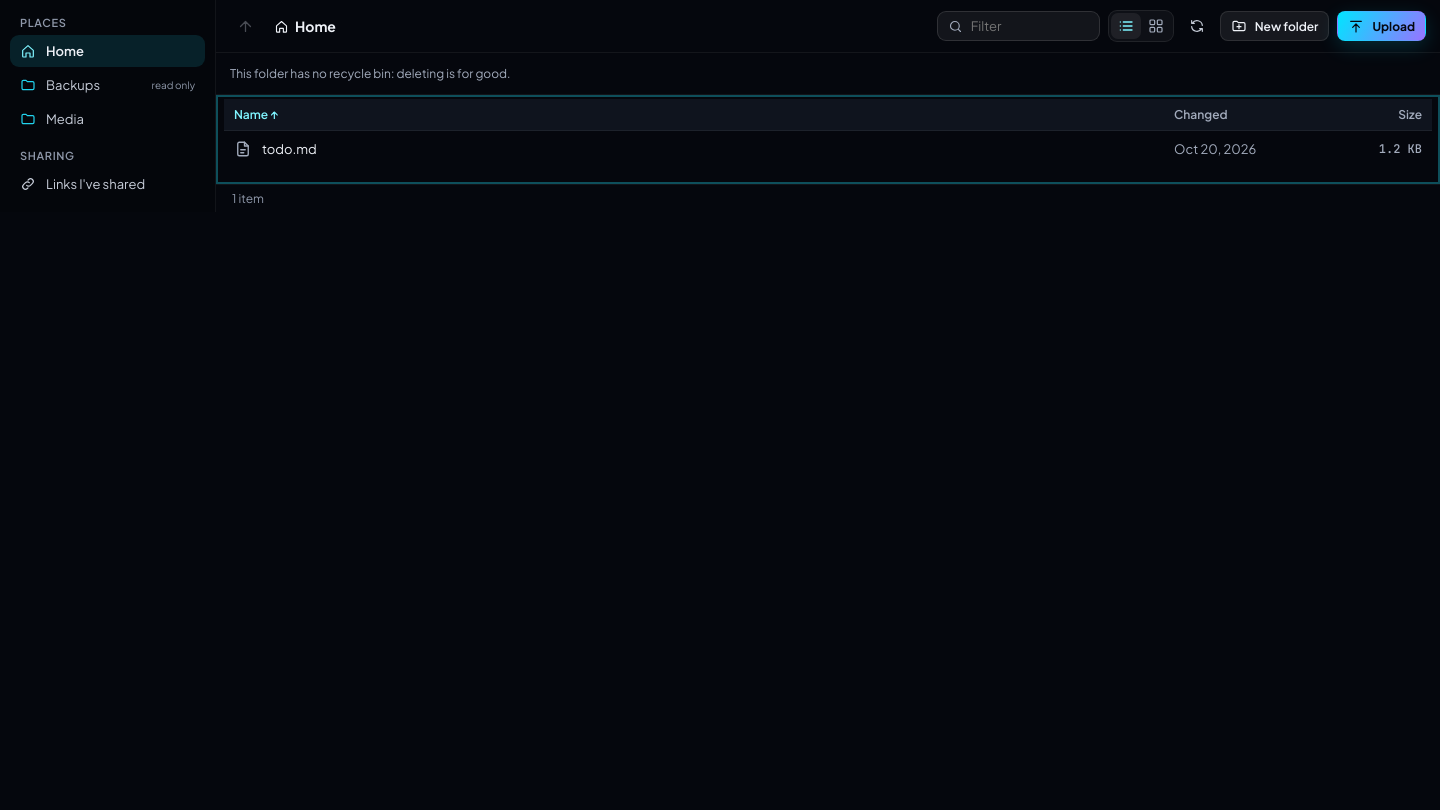
Test: File Manager › says deleting is for good where there's no recycle bin, and follows a delete job
Click the option "todo.md Oct 20, 2026 1.2 KB".
click(289, 149)  # box [234,140,1422,158]
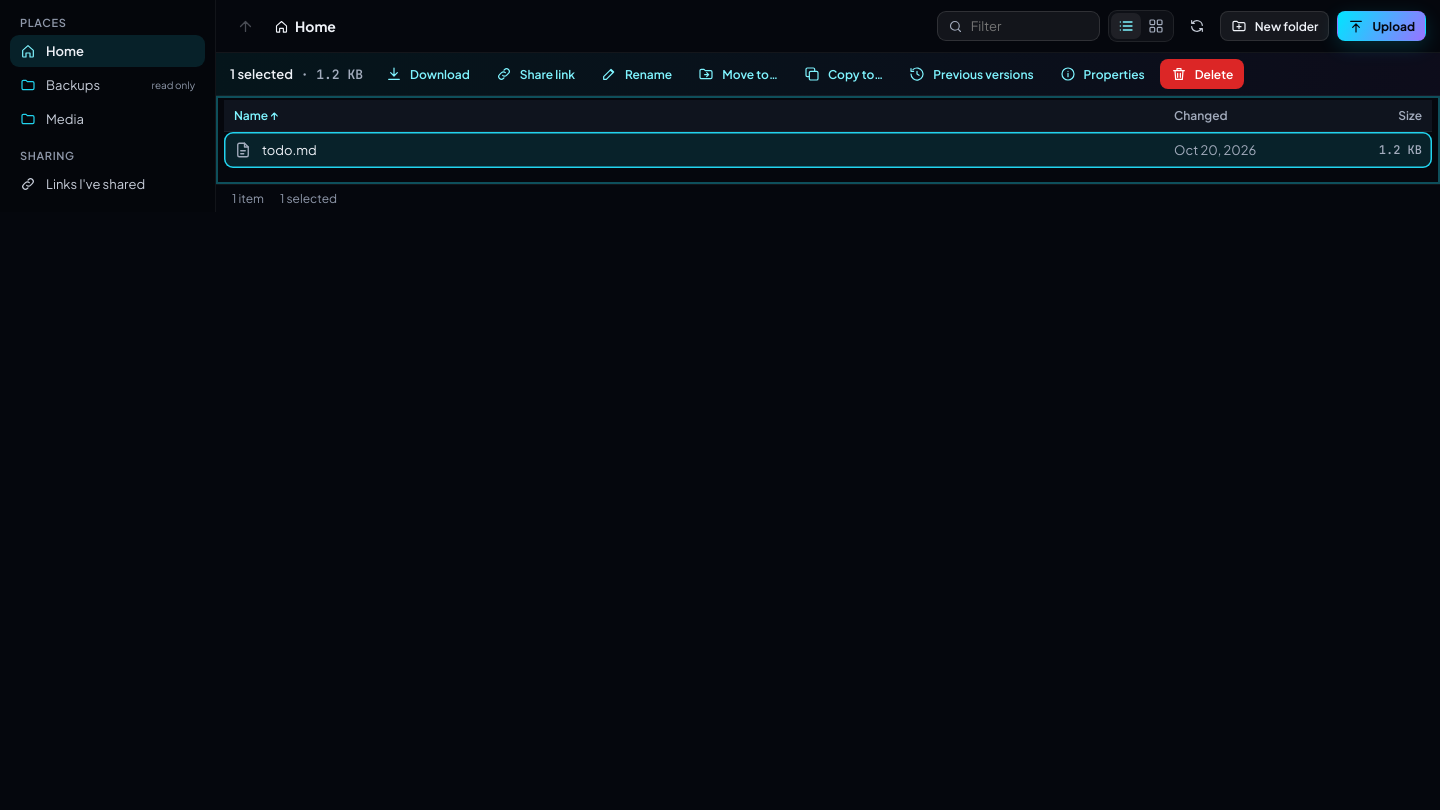
Click the button "Delete".
click(1202, 74)  # box [1160,59,1244,89]
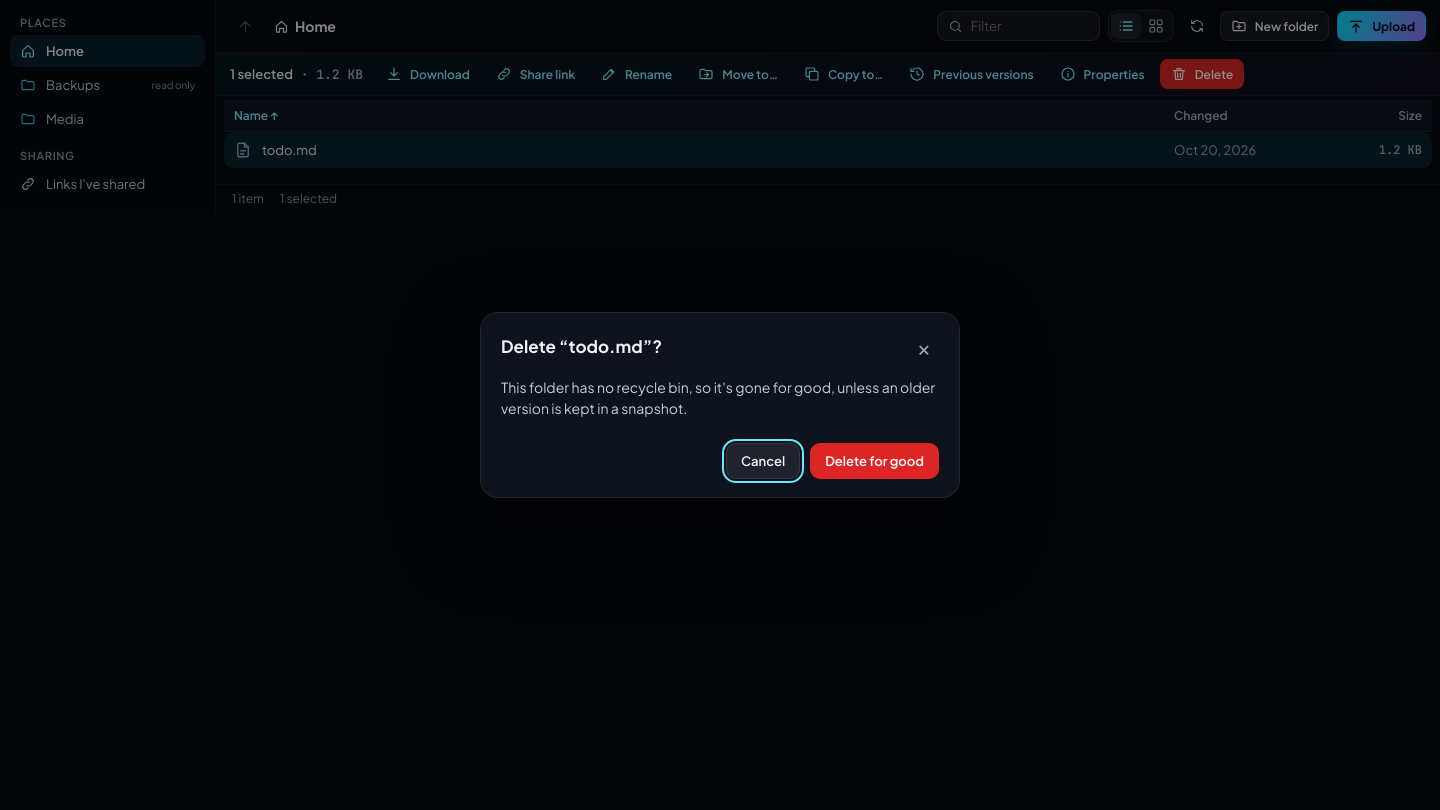
Now the text "no recycle bin, so it's gone for good" is shown, box [501,377,939,419]
Click the button "Delete for good".
click(875, 461)  # box [810,443,939,479]
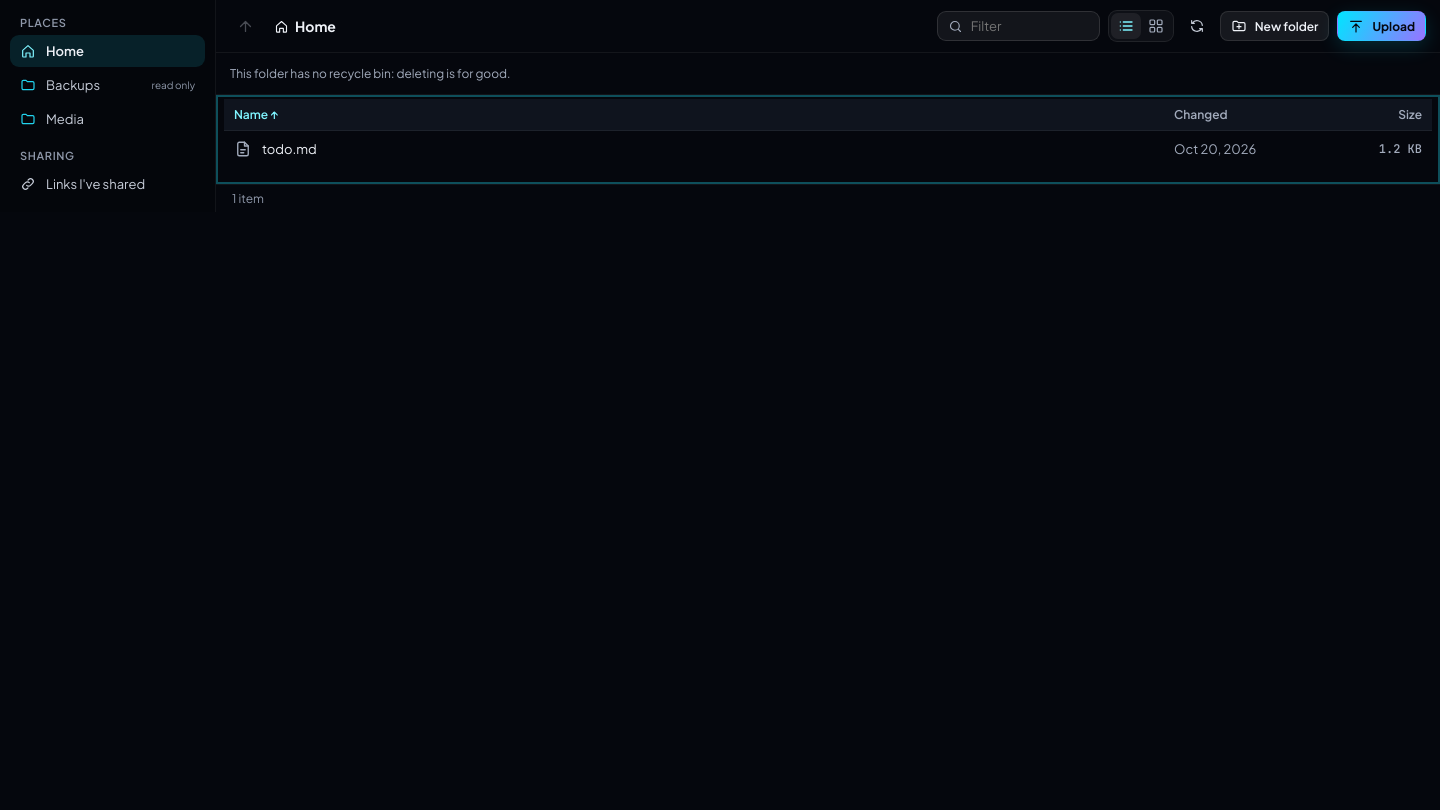
Now the dialog is gone
